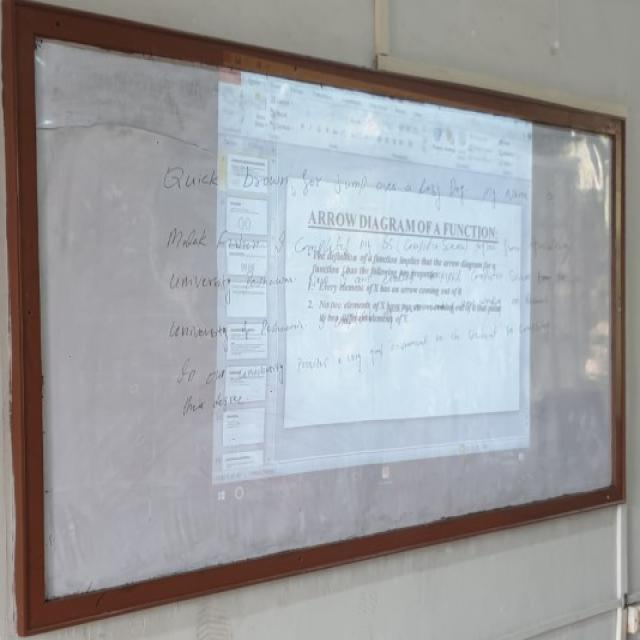Slide: (207, 57, 531, 513)
White-board: (21, 19, 625, 614)
